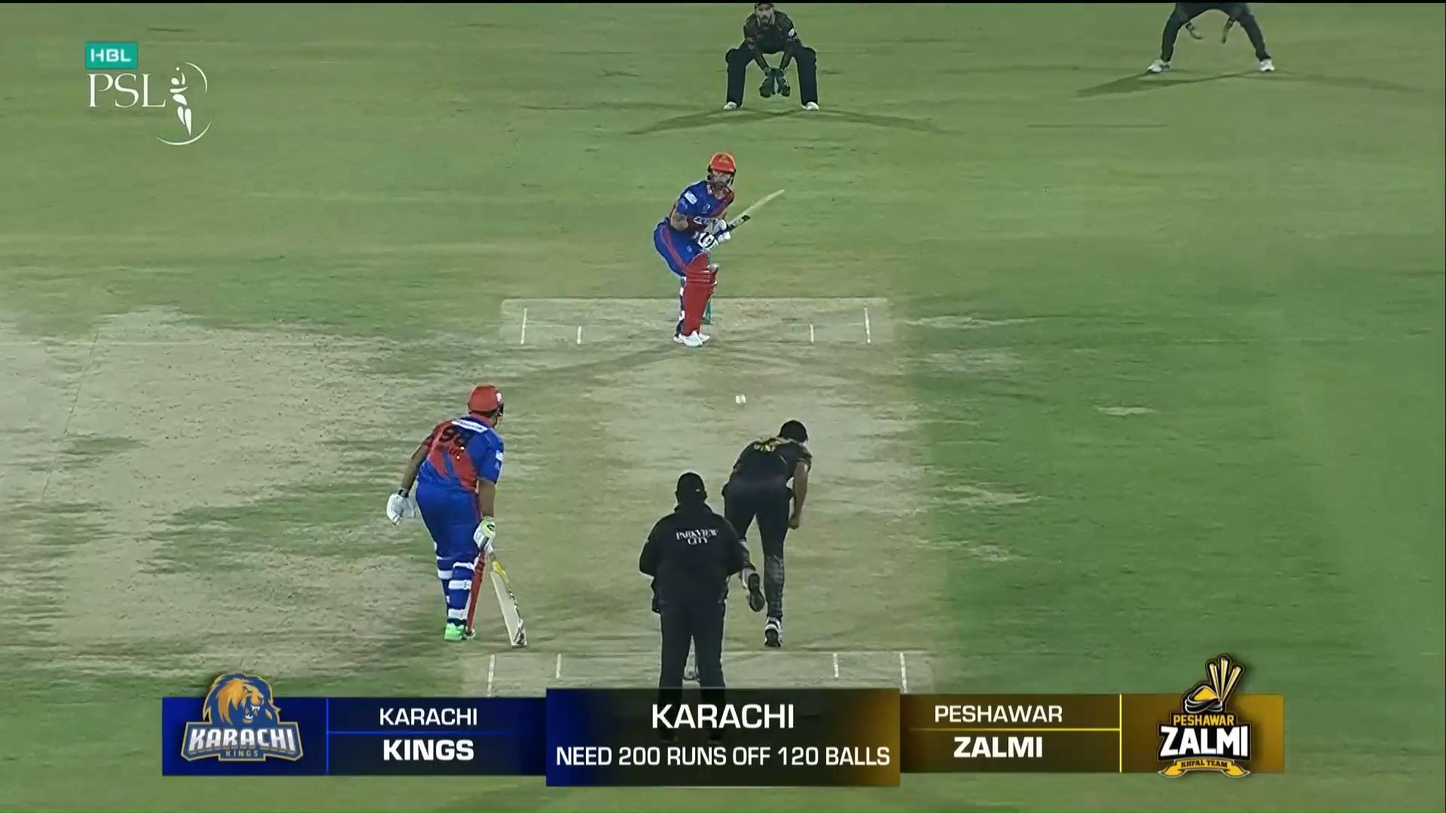batsman: (653, 151, 785, 348)
